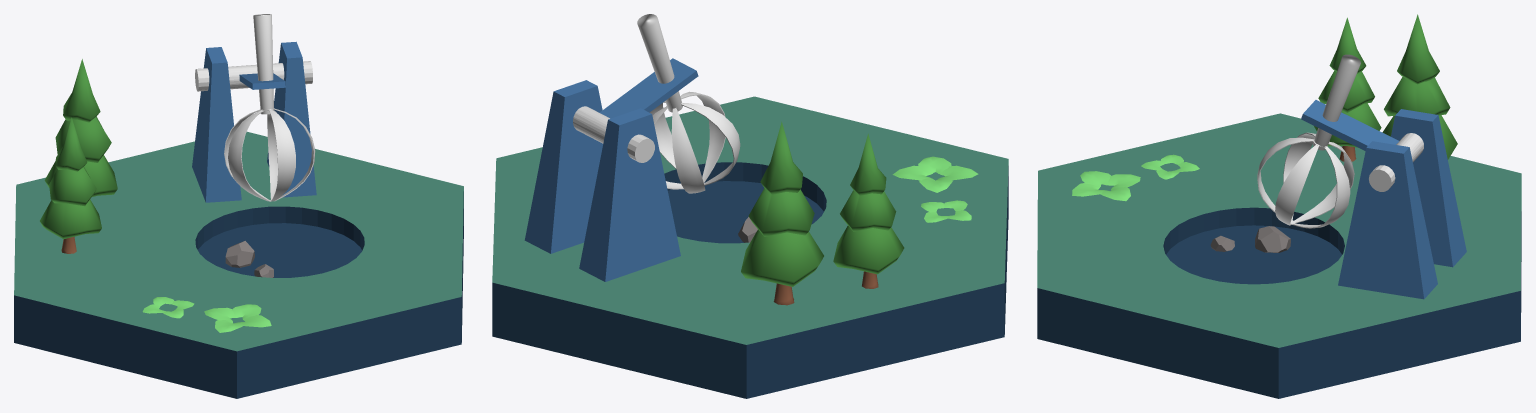
Rendered from Macro - Mineral lvl 1 rev.fbx.
3 renders of one model, left to right at view 1: azimuth 30°, elevation 25°; view 2: azimuth 150°, elevation 25°; view 3: azimuth 270°, elevation 25°, orthographic. The views are drawn at different scales.
Parts seen in each view (by area): view 1: Cylinder.011, Cube.010, Tree_Spruce_tiny_01.001, Circle, Tree_Spruce_tiny_01.002, Cube.011, Cylinder.001, Plane.011, Cylinder.034, Rock Type2 04 mesh.001, Plane.001, Cube; view 2: Cylinder.011, Cube.010, Cube.011, Tree_Spruce_tiny_01.002, Tree_Spruce_tiny_01.001, Circle, Cube, Cylinder.001, Plane.011, Cylinder.034, Plane.001; view 3: Cylinder.011, Cube.011, Cube.010, Circle, Tree_Spruce_tiny_01.002, Tree_Spruce_tiny_01.001, Cube, Cylinder.001, Plane.011, Cylinder.034, Rock Type2 04 mesh.001, Plane.001.
Part boxes in pixels (<box>): Cylinder.011: <box>14,131,463,398</box>; Cube.010: <box>192,47,241,202</box>; Tree_Spruce_tiny_01.001: <box>40,117,101,253</box>; Circle: <box>224,108,315,201</box>; Tree_Spruce_tiny_01.002: <box>44,59,117,196</box>; Cube.011: <box>267,41,316,197</box>; Cylinder.001: <box>253,14,273,114</box>; Plane.011: <box>204,304,271,332</box>; Cylinder.034: <box>195,61,312,91</box>; Rock Type2 04 mesh.001: <box>225,240,254,267</box>; Plane.001: <box>142,297,194,318</box>; Cube: <box>239,73,285,89</box>; Cylinder.011: <box>492,96,1008,398</box>; Cube.010: <box>579,108,680,281</box>; Cube.011: <box>524,80,603,253</box>; Tree_Spruce_tiny_01.002: <box>741,121,823,305</box>; Tree_Spruce_tiny_01.001: <box>833,133,904,288</box>; Circle: <box>649,91,740,193</box>; Cube: <box>599,58,698,118</box>; Cylinder.001: <box>637,14,682,112</box>; Plane.011: <box>892,156,978,192</box>; Cylinder.034: <box>573,106,654,162</box>; Plane.001: <box>921,200,971,222</box>; Cylinder.011: <box>1037,113,1521,398</box>; Cube.011: <box>1338,141,1437,299</box>; Cube.010: <box>1391,109,1466,267</box>; Circle: <box>1257,132,1354,228</box>; Tree_Spruce_tiny_01.002: <box>1382,14,1457,159</box>; Tree_Spruce_tiny_01.001: <box>1314,17,1381,161</box>; Cube: <box>1301,100,1398,150</box>; Cylinder.001: <box>1313,54,1360,150</box>; Plane.011: <box>1072,171,1140,201</box>; Cylinder.034: <box>1369,133,1423,191</box>; Rock Type2 04 mesh.001: <box>1255,226,1290,252</box>; Plane.001: <box>1141,154,1199,179</box>.
Bounding box in the file's own units: 197 × 99.74 × 172.
